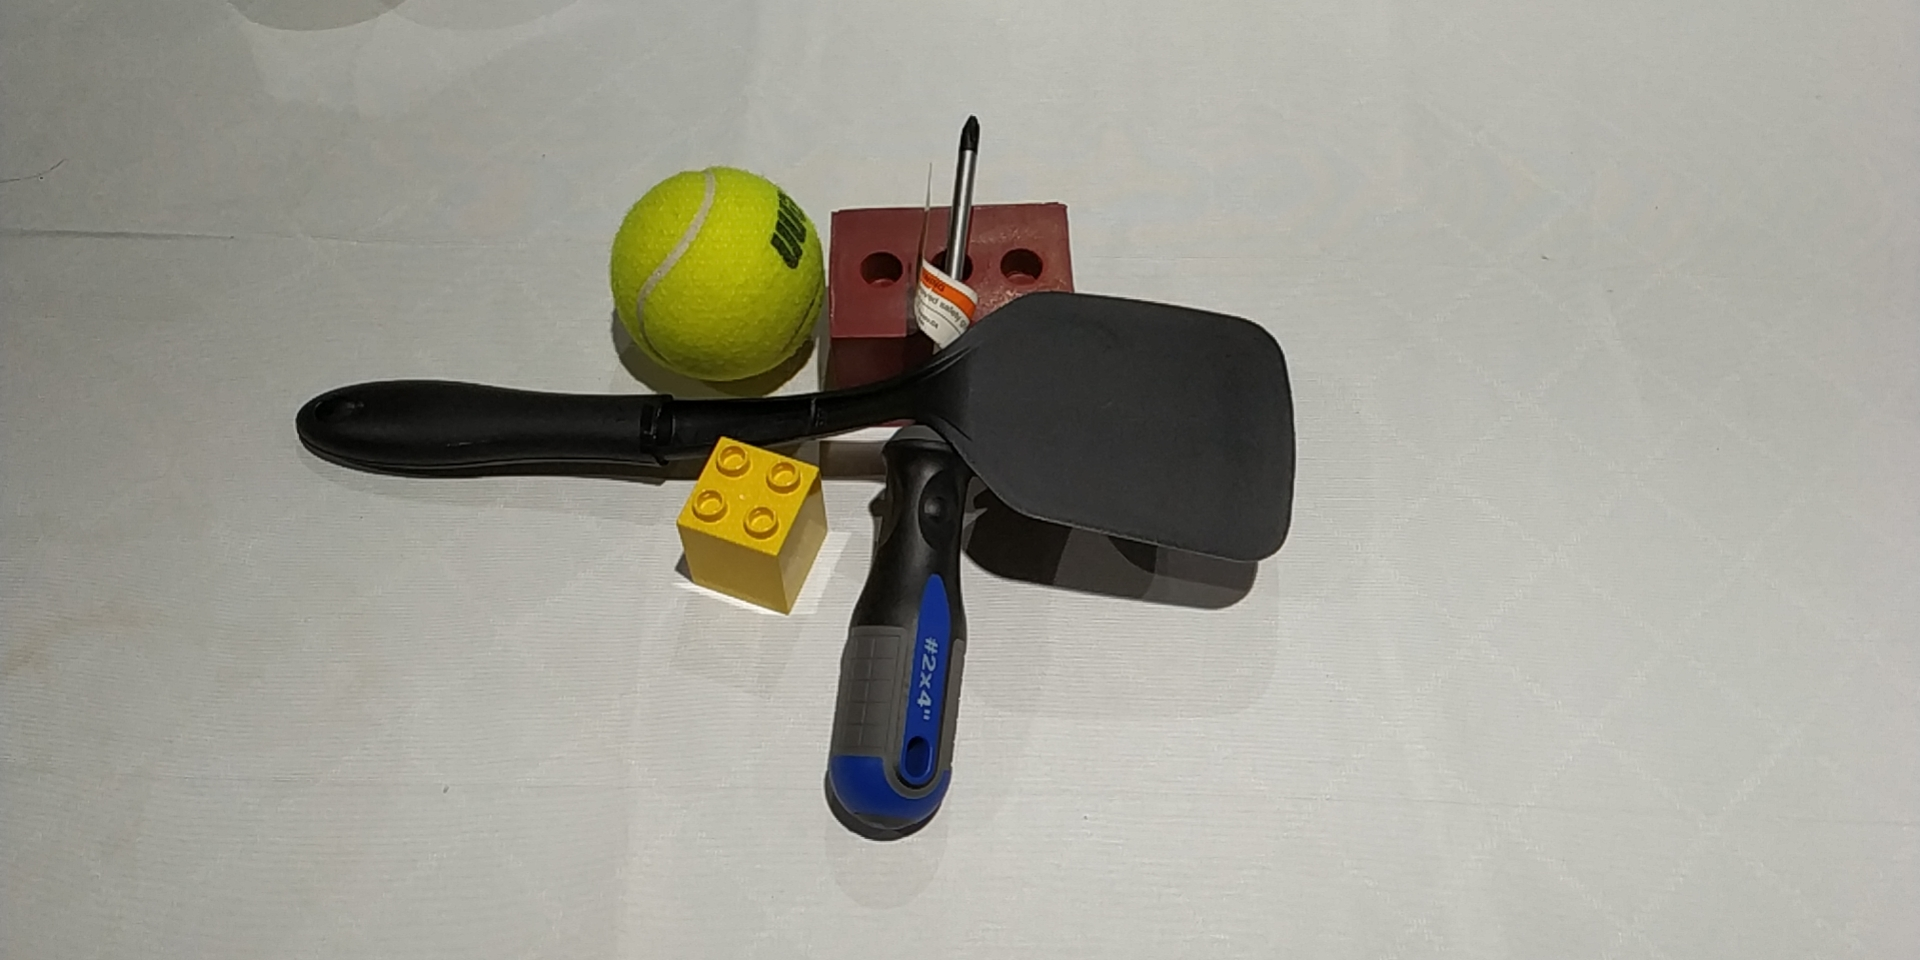ball: (602, 159, 828, 386)
box: (817, 193, 1080, 389), (670, 433, 828, 617)
screwdriver: (830, 111, 992, 838)
turner: (291, 294, 1302, 566)
